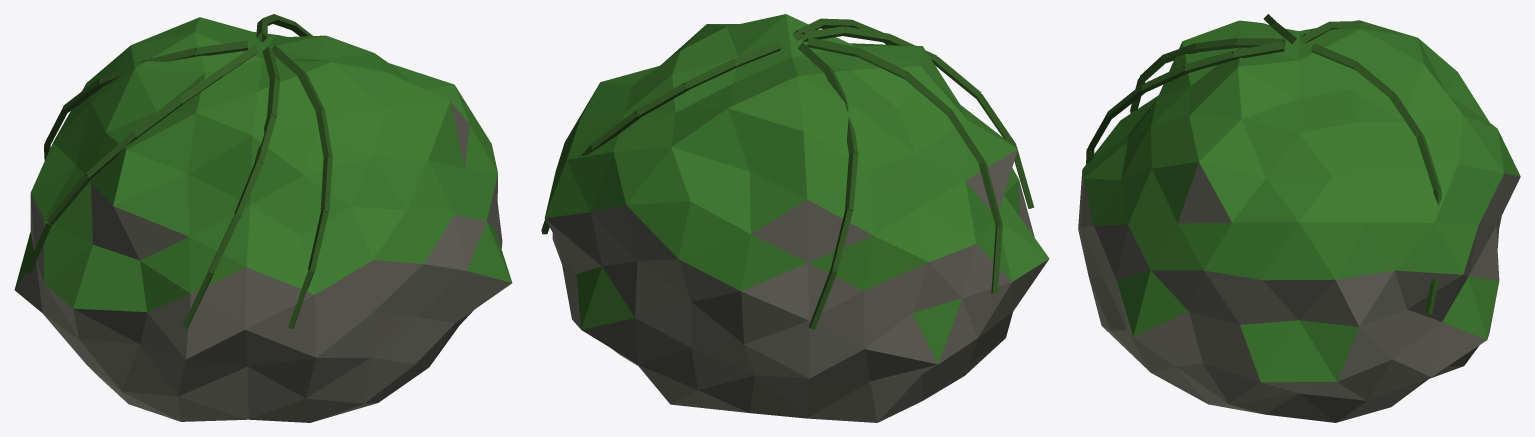
Rendered from JU_Rock_OvergrownBoulder.obj.
3 views of the same model, side by side, from view 1: azimuth 30°, elevation 25°; view 2: azimuth 150°, elevation 25°; view 3: azimuth 270°, elevation 25° (orthographic). The views are drawn at different scales.
Parts seen in each view (by area): view 1: boulder_top, boulder, vine_1_0, vine_4_3, vine_3_4, vine_4_4, vine_3_3, vine_2_3, vine_3_2, vine_4_2; view 2: boulder_top, boulder, vine_3_4, vine_1_3, vine_3_0, vine_0_2, vine_1_4, vine_2_3, vine_0_1, vine_0_3, vine_3_1, vine_3_5 (+3 smaller); view 3: boulder_top, boulder, vine_4_0, vine_4_1, vine_0_3, vine_4_2, vine_0_0, vine_2_1, vine_0_2.
Part boxes in pixels (x1=…): boulder_top: x1=14, y1=17, x2=512, y2=312; boulder: x1=15, y1=101, x2=511, y2=422; vine_1_0: x1=196, y1=40, x2=248, y2=56; vine_4_3: x1=320, y1=156, x2=332, y2=212; vine_3_4: x1=46, y1=173, x2=91, y2=224; vine_4_4: x1=308, y1=211, x2=328, y2=271; vine_3_3: x1=86, y1=132, x2=137, y2=178; vine_2_3: x1=234, y1=161, x2=262, y2=216; vine_3_2: x1=133, y1=97, x2=182, y2=137; vine_4_2: x1=315, y1=109, x2=332, y2=157; boulder_top: x1=544, y1=14, x2=1049, y2=363; boulder: x1=545, y1=149, x2=1048, y2=422; vine_3_4: x1=978, y1=162, x2=1002, y2=226; vine_1_3: x1=845, y1=153, x2=858, y2=210; vine_3_0: x1=807, y1=37, x2=859, y2=57; vine_0_2: x1=636, y1=83, x2=688, y2=117; vine_1_4: x1=830, y1=209, x2=852, y2=271; vine_2_3: x1=933, y1=56, x2=981, y2=98; vine_0_1: x1=685, y1=59, x2=735, y2=89; vine_0_3: x1=590, y1=111, x2=640, y2=150; vine_3_1: x1=857, y1=48, x2=907, y2=79; vine_3_5: x1=991, y1=226, x2=1002, y2=293; boulder_top: x1=1082, y1=20, x2=1520, y2=382; boulder: x1=1078, y1=162, x2=1520, y2=422; vine_4_0: x1=1233, y1=41, x2=1284, y2=59; vine_4_1: x1=1184, y1=51, x2=1235, y2=72; vine_0_3: x1=1416, y1=135, x2=1440, y2=190; vine_4_2: x1=1141, y1=65, x2=1187, y2=92; vine_0_0: x1=1311, y1=43, x2=1357, y2=69; vine_2_1: x1=1194, y1=38, x2=1238, y2=51; vine_0_2: x1=1389, y1=93, x2=1423, y2=137.
Size of the model in its own units: 8.27 by 5.6 by 7.3.
